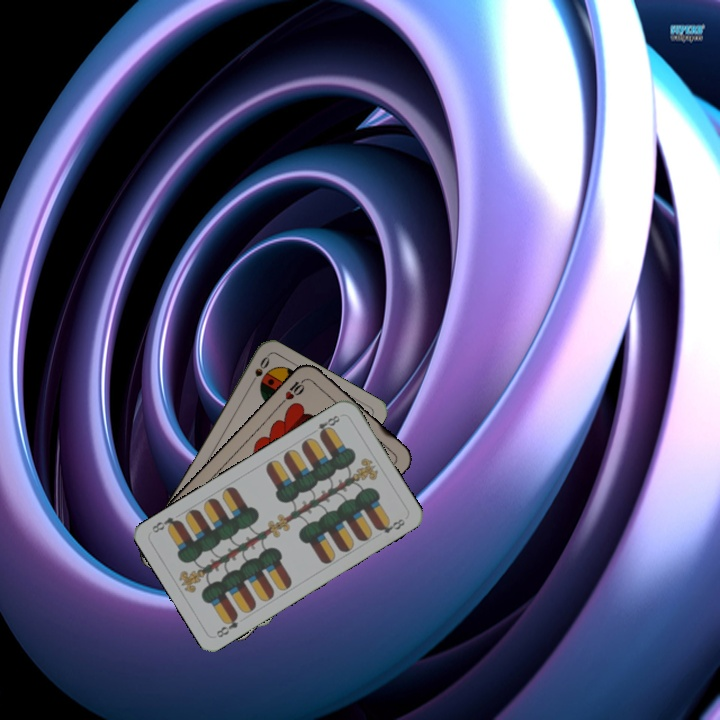E8: (308, 411, 343, 439), (212, 610, 241, 640)
H10: (277, 374, 310, 406)
SO: (245, 352, 272, 389)
